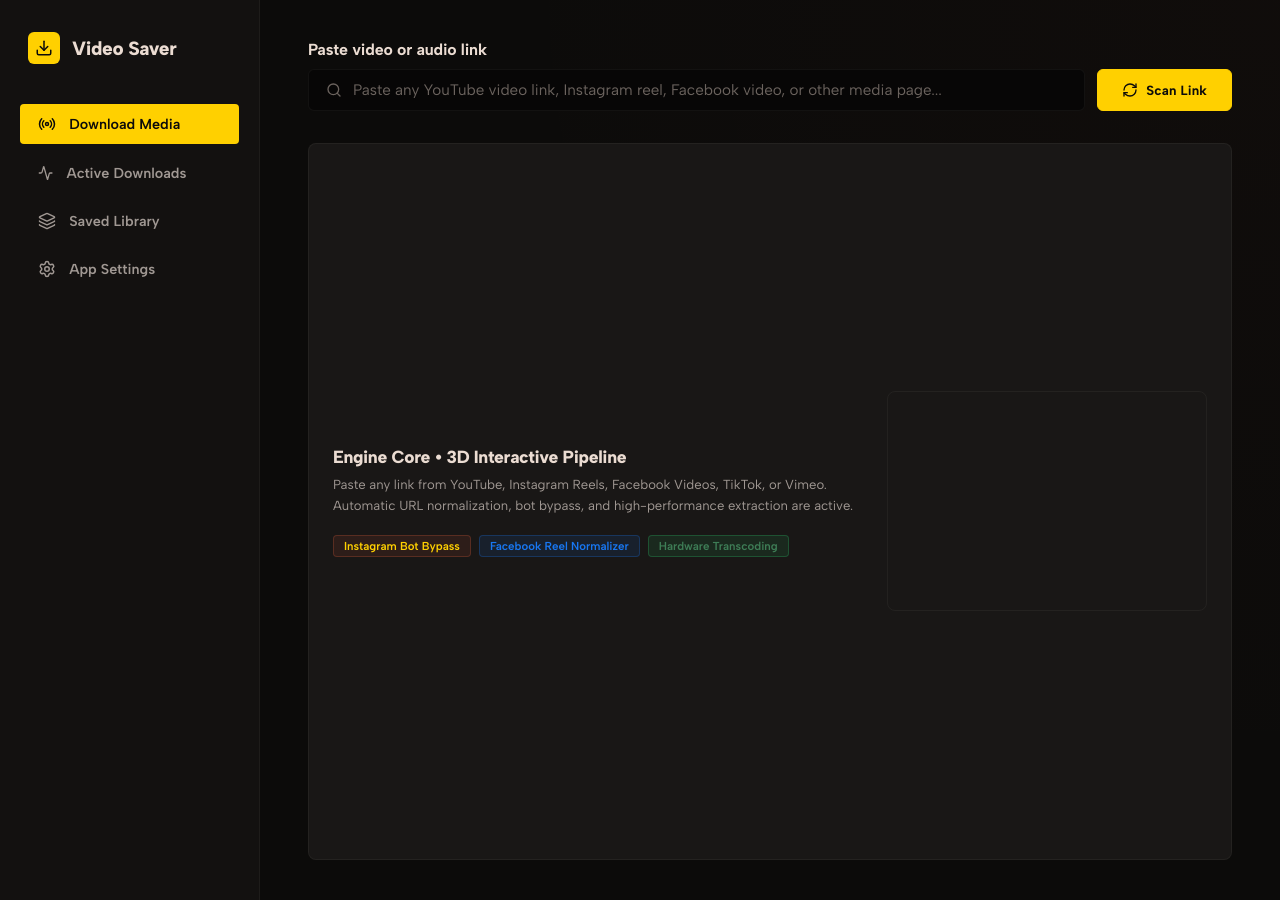
App Main Component › switches navigation tabs when clicked
The width and height of the screenshot is (1280, 900).
Click Active Downloads tab
Click the text "Active Downloads" at (126, 173), box [66,164,186,182]
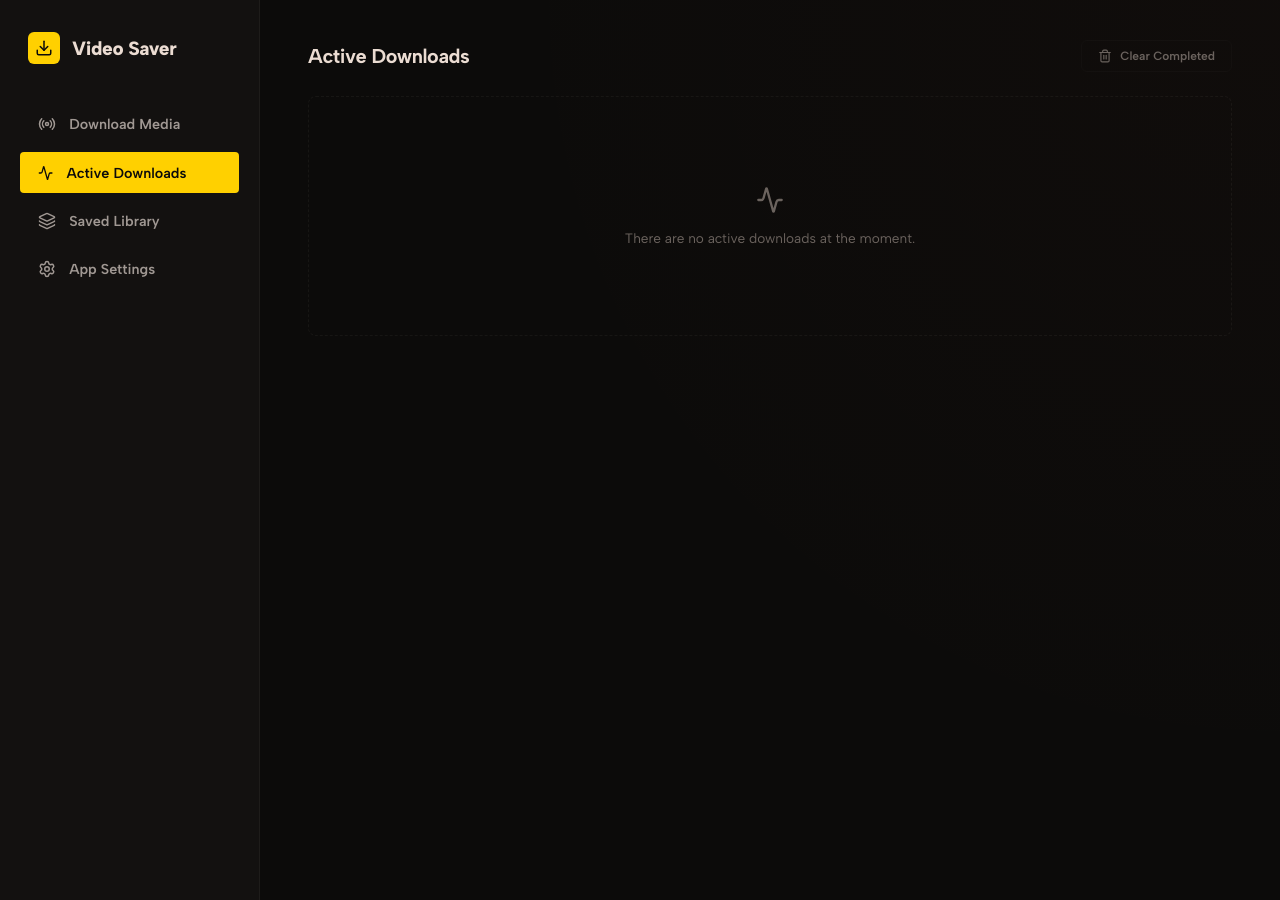
Check: the button "Clear Completed" is shown, box [1081,40,1232,72]
Click Saved Library tab
Click the text "Saved Library" at (114, 221), box [69,212,160,230]
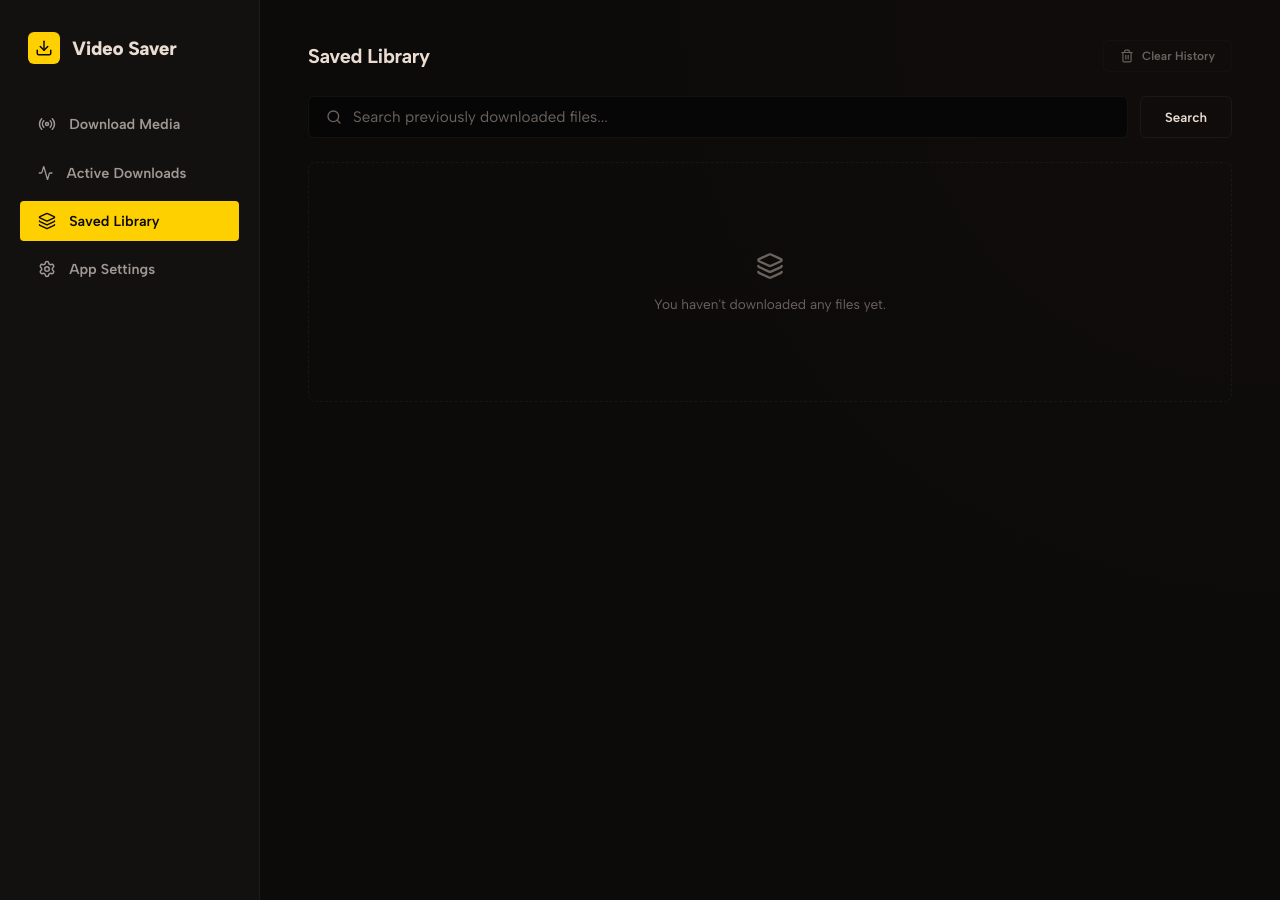
Check: the button "Clear History" is shown, box [1103,40,1232,72]
Click Settings tab
Click the text "App Settings" at (112, 269), box [69,260,155,278]
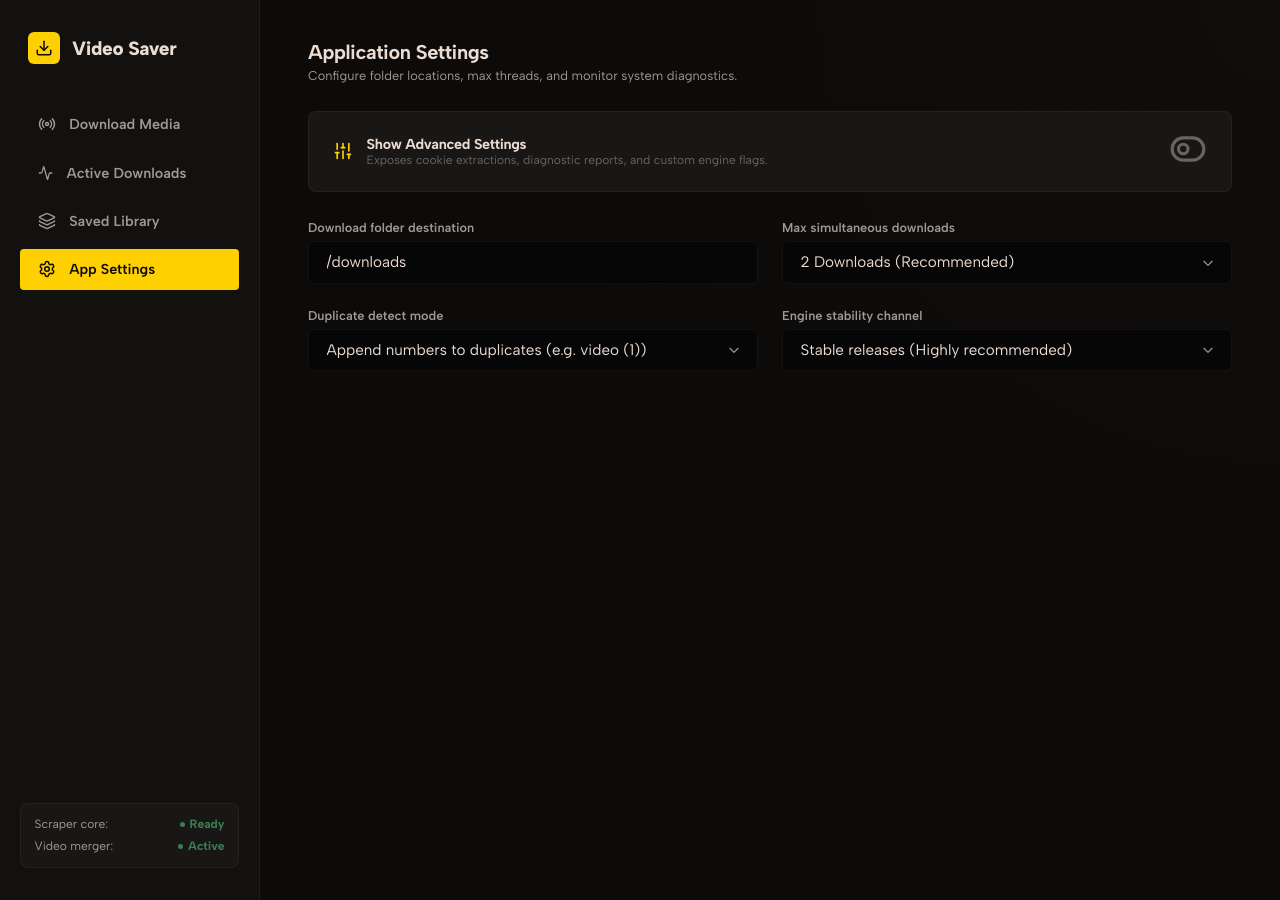
Check: the heading "Application Settings" is shown, box [308,40,489,64]
